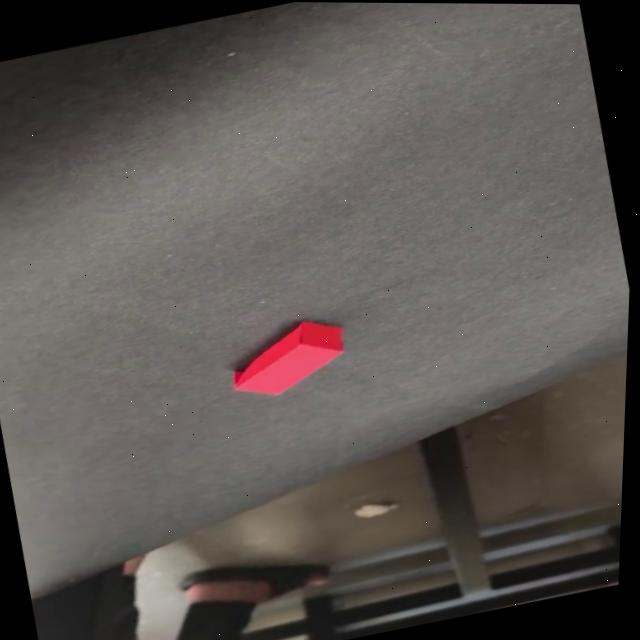red block: (222, 310, 356, 404)
